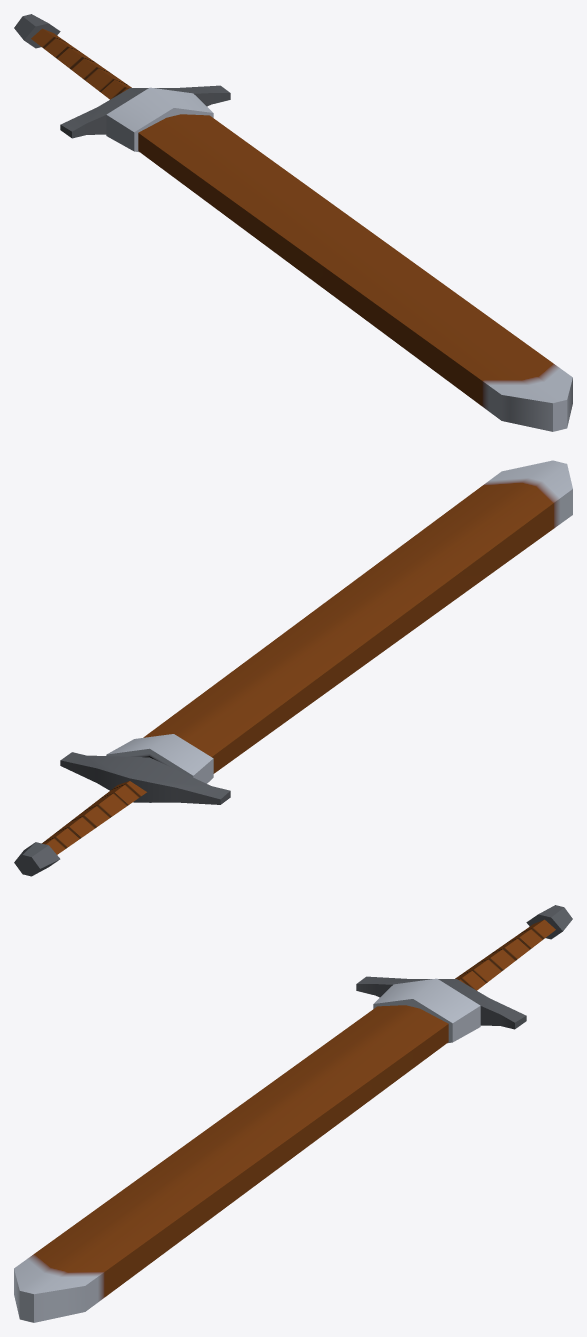
The model's file is wpn-sword.glb.
3 renders of one model, top to bottom at view 1: azimuth 30°, elevation 25°; view 2: azimuth 150°, elevation 25°; view 3: azimuth 330°, elevation 25°, orthographic.
Parts seen in each view (by area): view 1: SwordScabbardBasic_A, SwordBasic_A.001; view 2: SwordScabbardBasic_A, SwordBasic_A.001; view 3: SwordScabbardBasic_A, SwordBasic_A.001.
Boxes of the visible parts, x1,y1,x2,y2 form: SwordScabbardBasic_A: (106, 87, 572, 431); SwordBasic_A.001: (14, 14, 230, 138); SwordScabbardBasic_A: (106, 460, 572, 802); SwordBasic_A.001: (14, 752, 230, 876); SwordScabbardBasic_A: (14, 978, 480, 1322); SwordBasic_A.001: (356, 905, 572, 1029).
Bounding box in the file's own units: 0.251 × 0.0813 × 1.45.
1 material, 1 textured.
